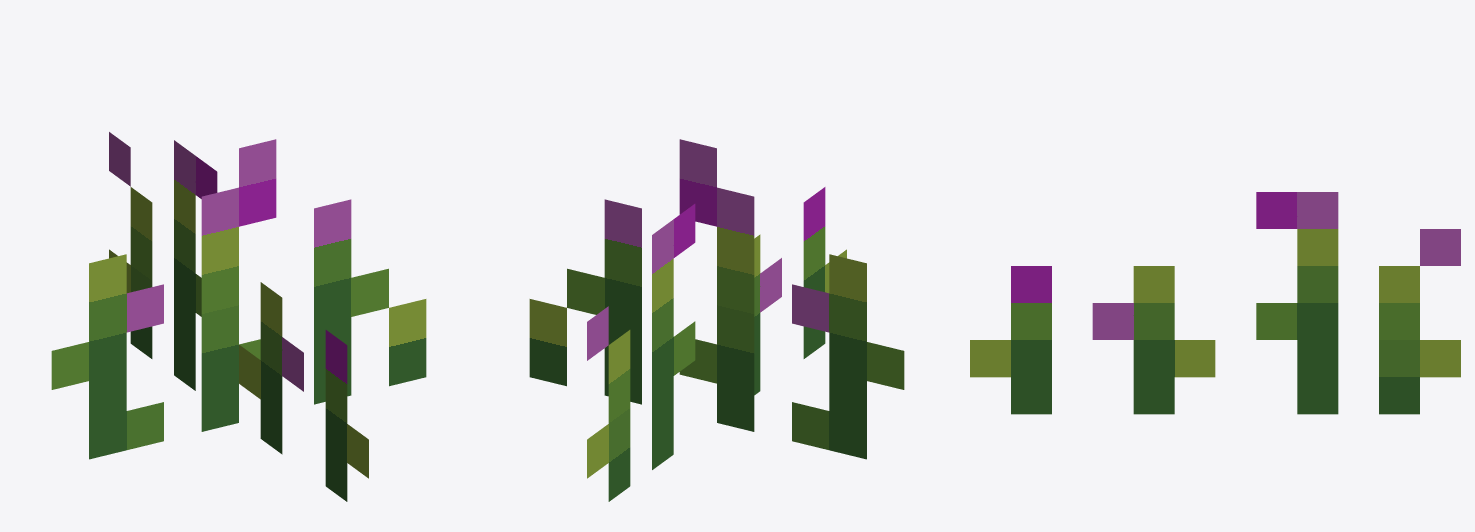
File: ThistleSprout.fbx
The picture shows the model from 3 angles, left to right: view 1: azimuth 30°, elevation 25°; view 2: azimuth 150°, elevation 25°; view 3: azimuth 270°, elevation 25°; orthographic projection. The views are drawn at different scales.
Parts seen in each view (by area): view 1: plane; view 2: plane; view 3: plane.
Part boxes in pixels (bbox=[...]): plane: bbox=[51, 132, 426, 501]; plane: bbox=[529, 139, 904, 501]; plane: bbox=[970, 192, 1460, 414].
Bounding box in the file's own units: 75 × 50 × 75.
1 material, 1 textured.
